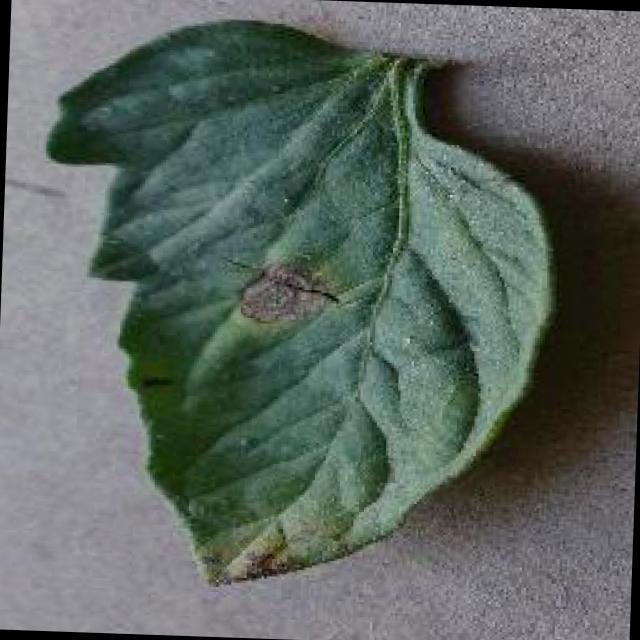Tomato Early blight leaf: (28, 9, 556, 606)
